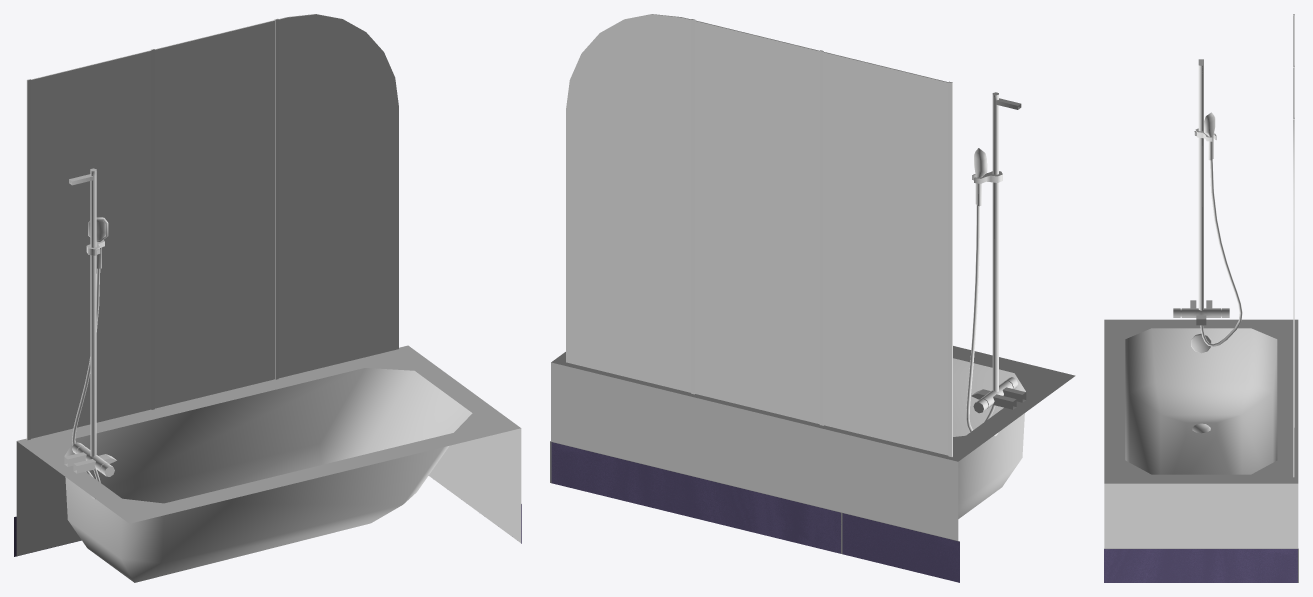
The model's file is bath.obj.
The picture shows the model from 3 angles, left to right: view 1: azimuth 30°, elevation 25°; view 2: azimuth 150°, elevation 25°; view 3: azimuth 270°, elevation 25°; orthographic projection. The views are drawn at different scales.
Visible parts, largest first — view 1: obj3, obj1, obj2, obj4; view 2: obj3, obj1, obj5, obj2, obj4; view 3: obj1, obj5, obj4, obj3, obj2.
Boxes of the visible parts, bbox=[...] form: obj3: bbox=[31, 14, 398, 438]; obj1: bbox=[16, 345, 521, 582]; obj2: bbox=[26, 18, 278, 440]; obj4: bbox=[64, 168, 116, 499]; obj3: bbox=[566, 14, 948, 455]; obj1: bbox=[551, 346, 1075, 540]; obj5: bbox=[550, 441, 959, 582]; obj2: bbox=[691, 19, 952, 456]; obj4: bbox=[966, 92, 1026, 436]; obj1: bbox=[1104, 319, 1298, 548]; obj5: bbox=[1104, 548, 1298, 582]; obj4: bbox=[1173, 59, 1242, 433]; obj3: bbox=[1293, 16, 1294, 477]; obj2: bbox=[1293, 14, 1294, 427].
Bounding box in the file's own units: 8.55 × 9.87 × 4.26.
Materials: 4 (1 with a texture image).
